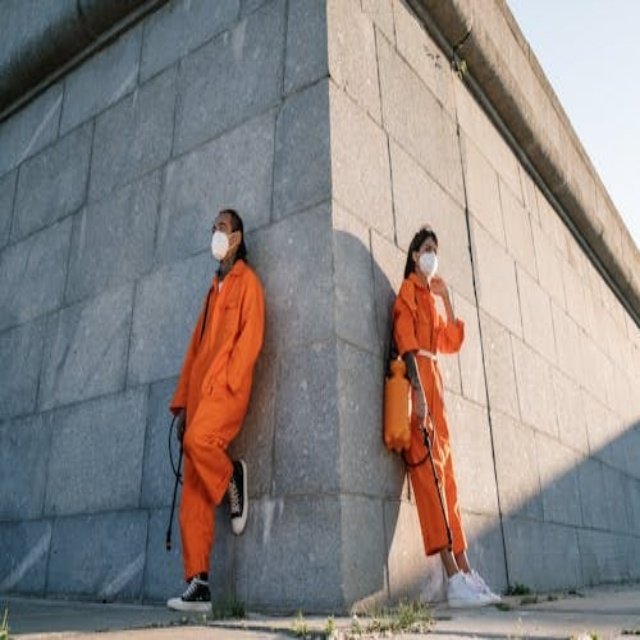Mascara: (211, 230, 236, 261), (418, 251, 439, 279)
Sin_gafas: (207, 215, 229, 236), (420, 240, 440, 254)
Sin_guantes: (410, 384, 430, 421), (431, 271, 451, 302), (169, 406, 184, 436)
